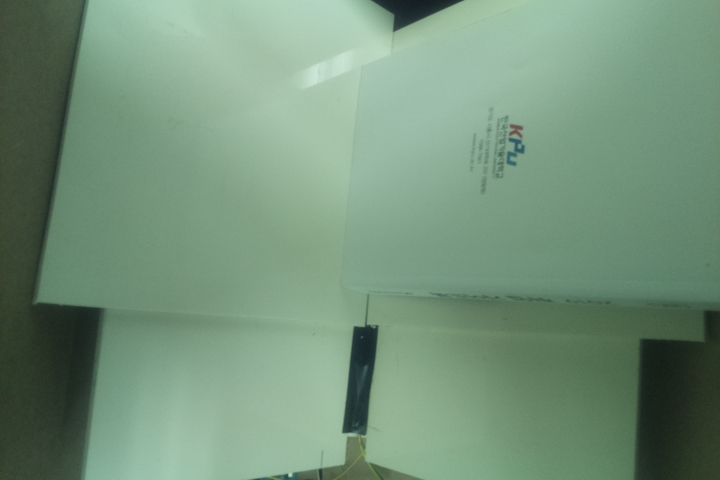book: (337, 1, 719, 314)
